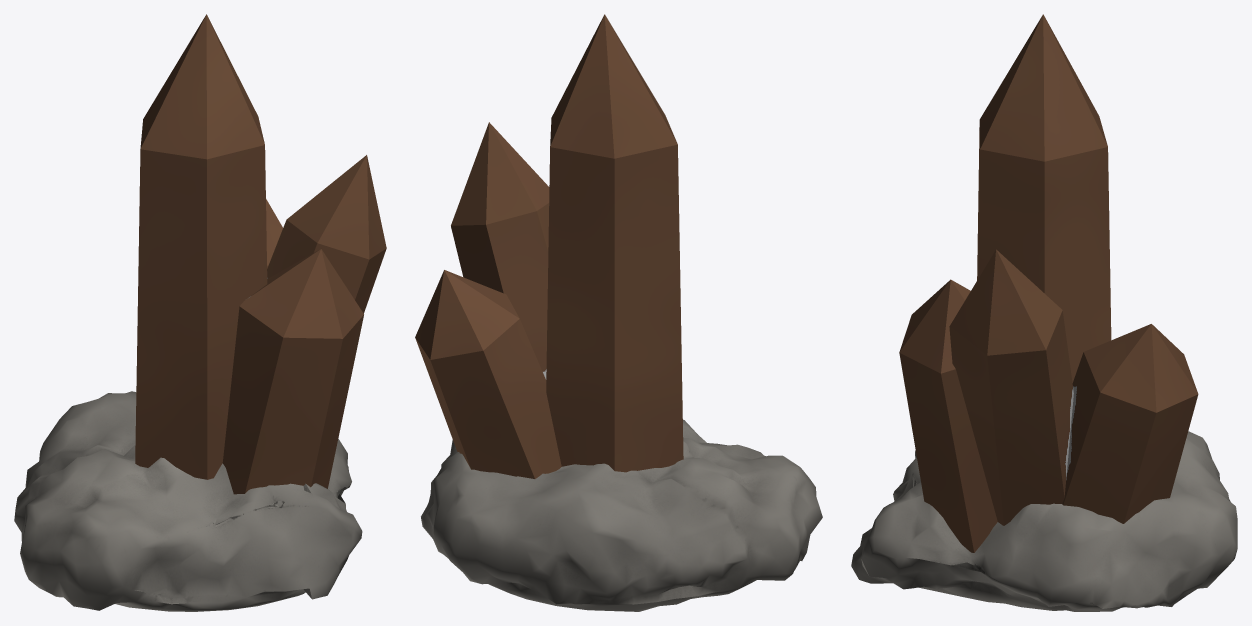
File: cuarzo_ahumado.fbx
3 views of the same model, side by side, from view 1: azimuth 30°, elevation 25°; view 2: azimuth 150°, elevation 25°; view 3: azimuth 270°, elevation 25° (orthographic). The views are drawn at different scales.
Parts seen in each view (by area): view 1: cuarzo_ahumado_cristal, cuarzo_ahumado; view 2: cuarzo_ahumado_cristal, cuarzo_ahumado; view 3: cuarzo_ahumado_cristal, cuarzo_ahumado.
Boxes of the visible parts, box(x1,y1,x2,y2) form: cuarzo_ahumado_cristal: box(135, 14, 386, 494); cuarzo_ahumado: box(14, 391, 362, 611); cuarzo_ahumado_cristal: box(415, 14, 683, 478); cuarzo_ahumado: box(421, 419, 822, 611); cuarzo_ahumado_cristal: box(899, 14, 1198, 552); cuarzo_ahumado: box(851, 431, 1237, 611).
Size of the model in its own units: 2.18 by 3.26 by 2.04.
2 materials, 2 textured.
